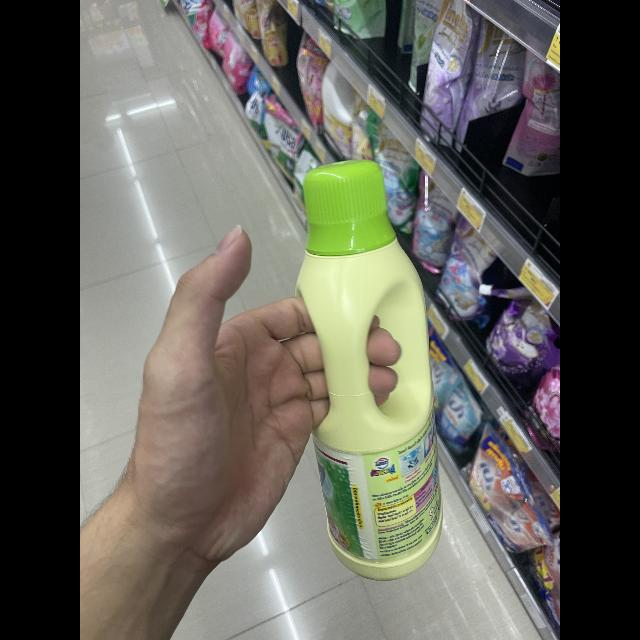chemical_plastic_bottle: (273, 152, 473, 592)
